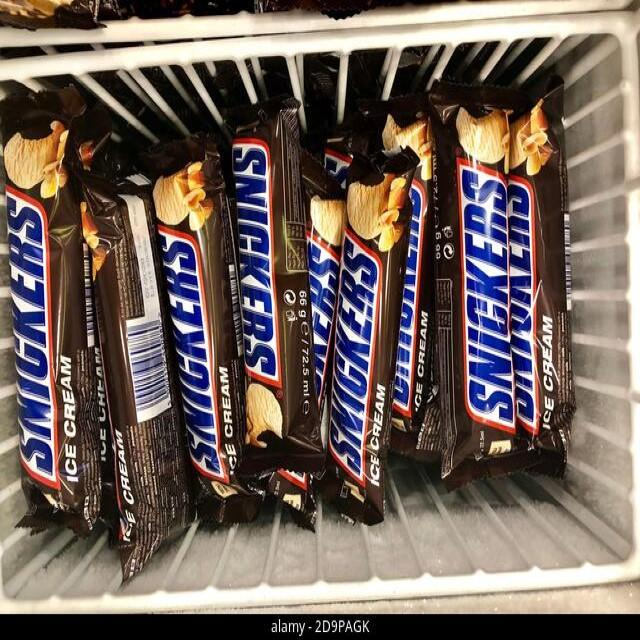snickers_chocolate: (457, 121, 543, 452), (227, 135, 293, 480), (7, 143, 68, 507), (167, 188, 230, 504), (340, 200, 383, 503)
